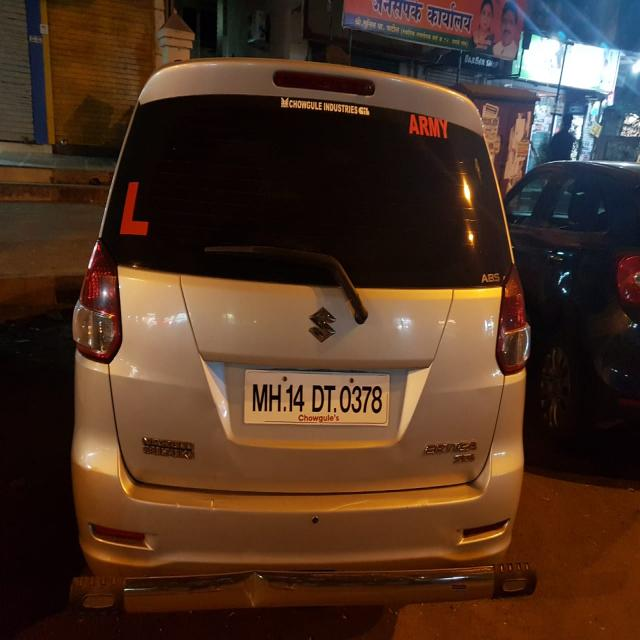Number-Plate: (249, 369, 386, 422)
